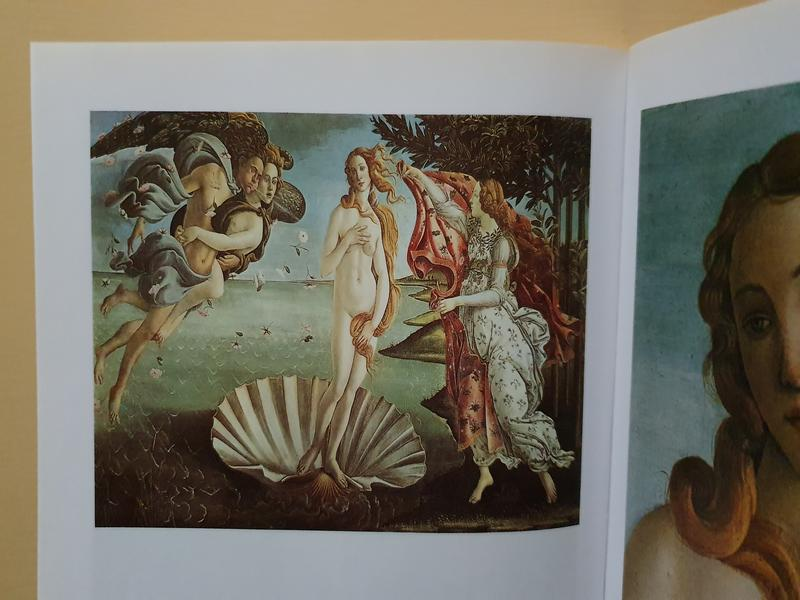Venere: (89, 109, 584, 530)
